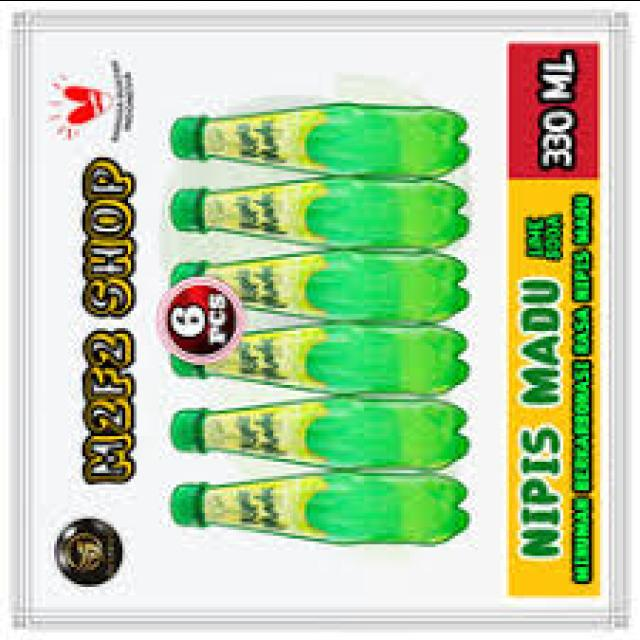寶特瓶: (162, 452, 494, 558), (156, 164, 467, 260), (169, 234, 479, 326), (164, 93, 474, 181), (150, 396, 478, 476), (156, 318, 476, 396)
